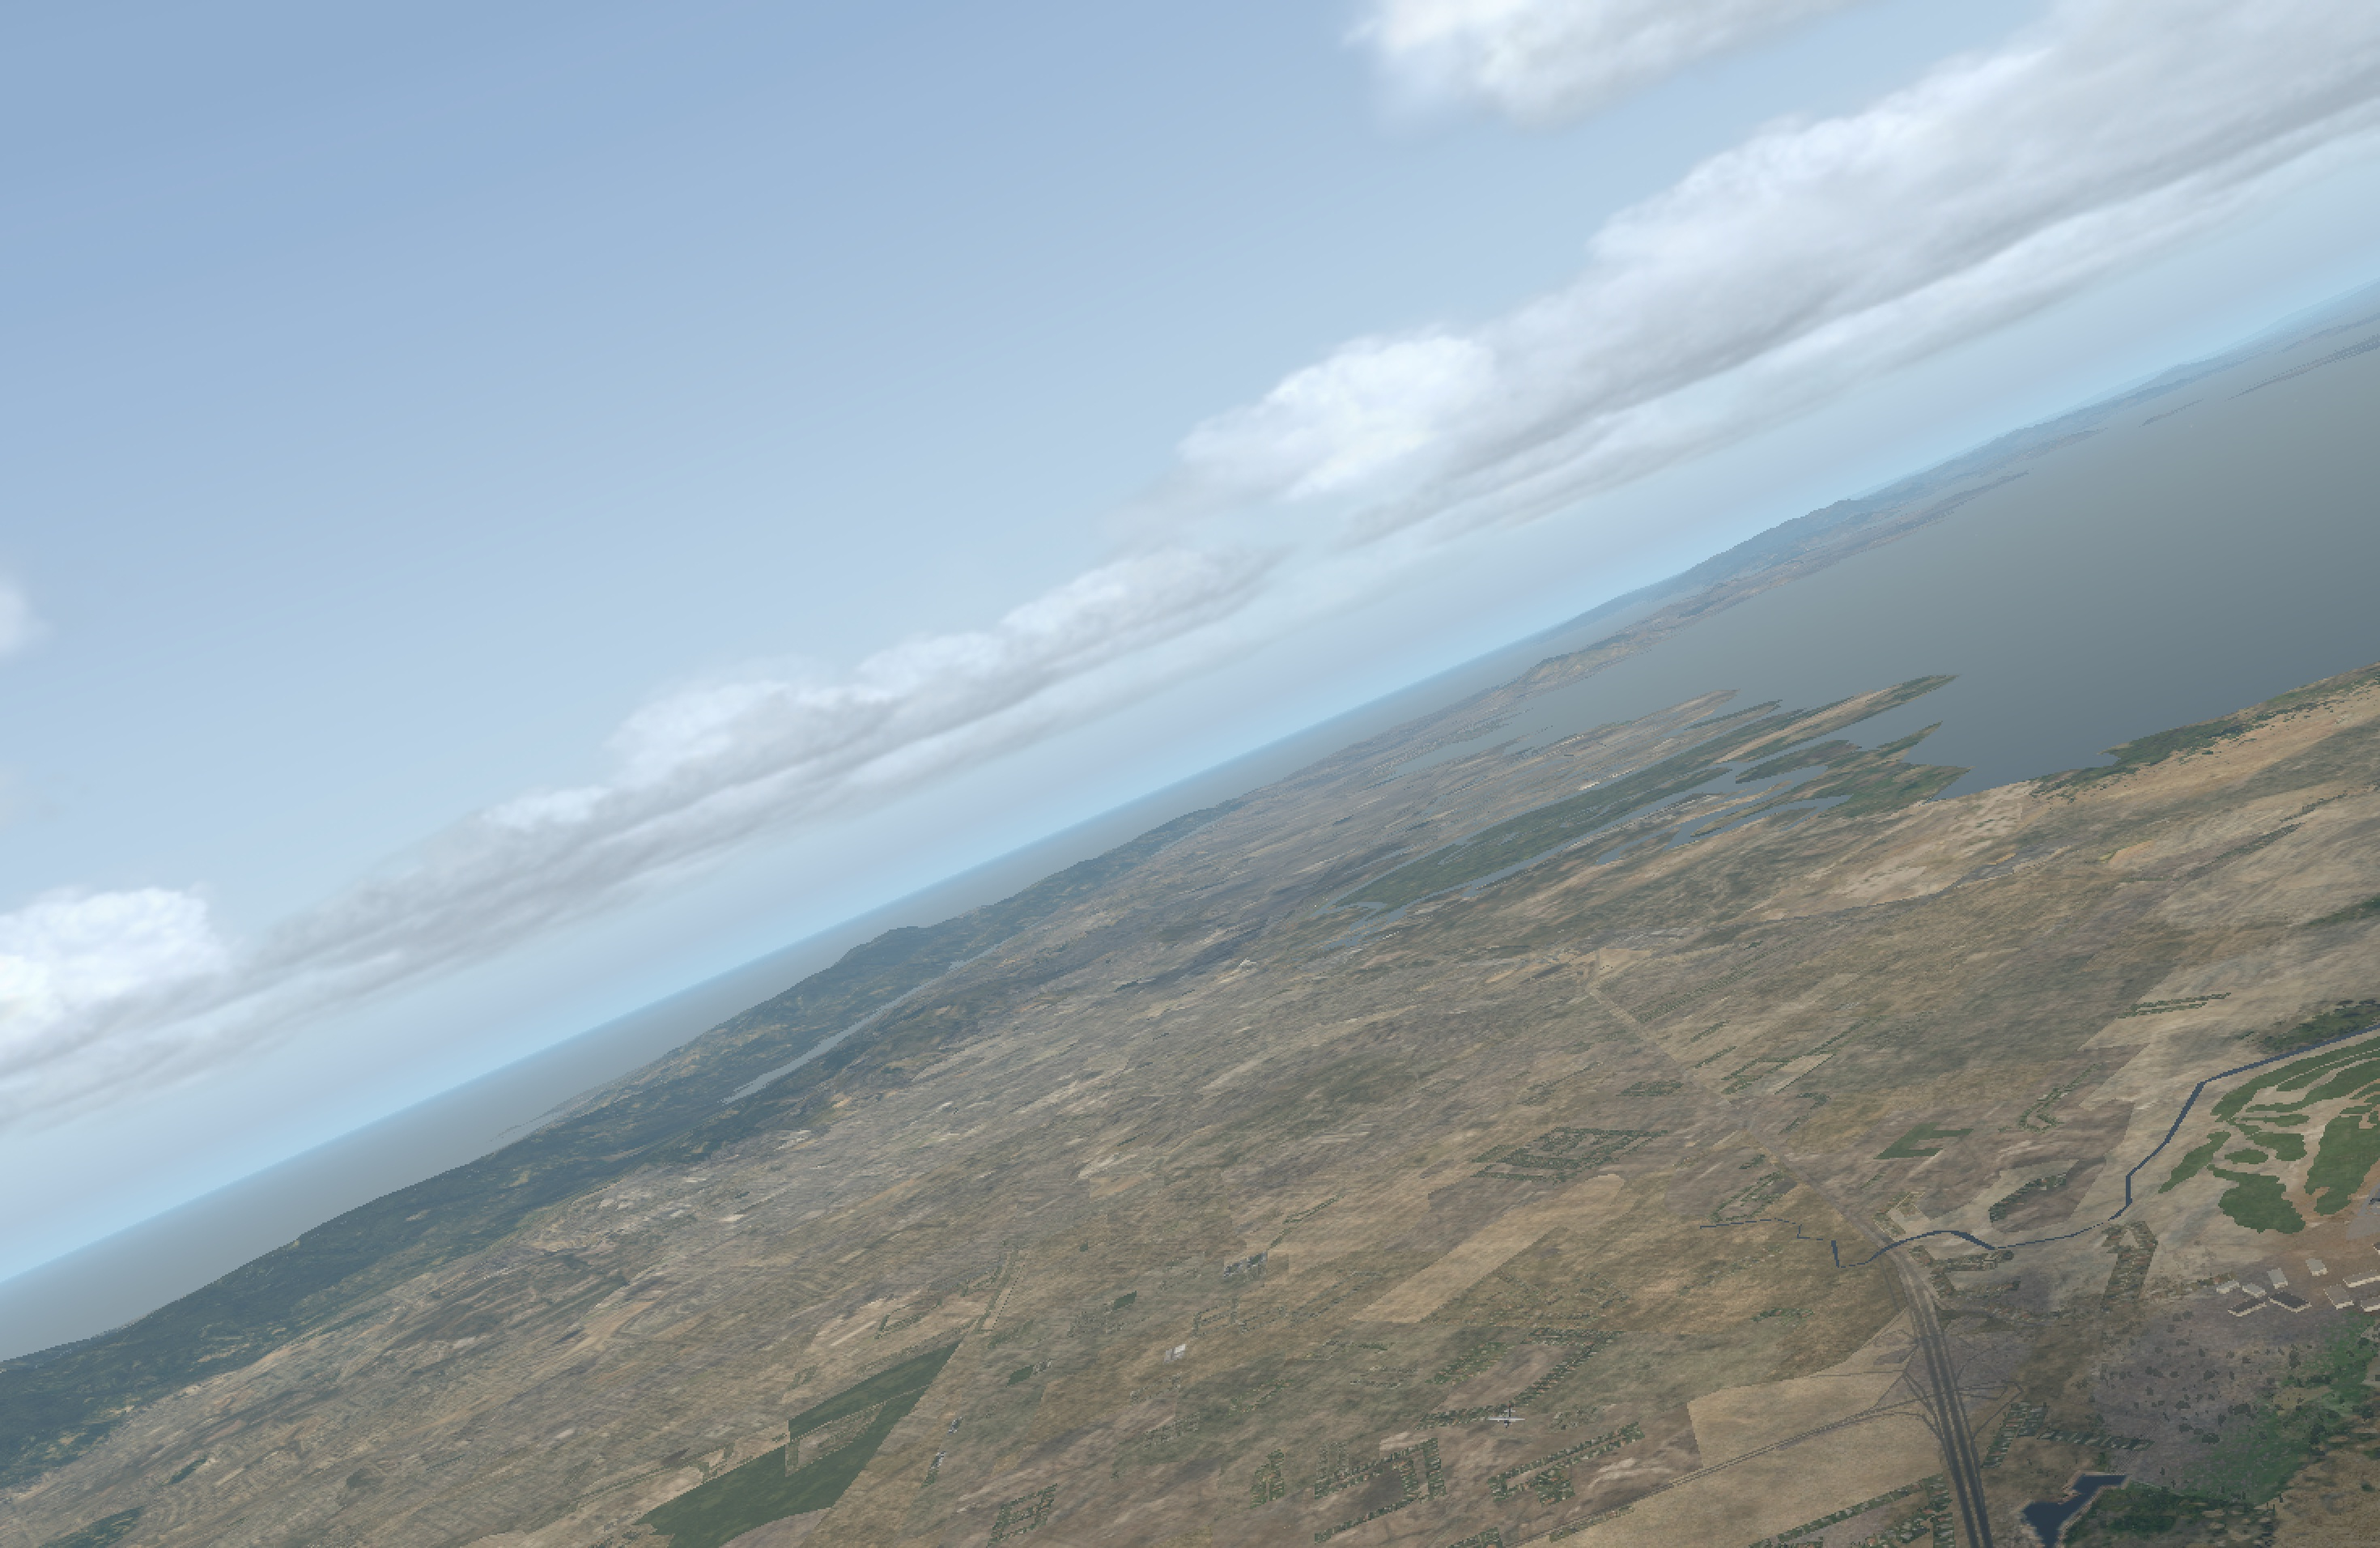aircraft: (1494, 1416, 1520, 1427)
